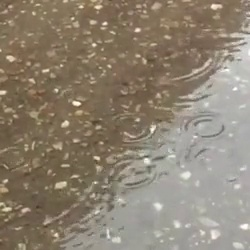drop: (187, 143, 237, 182), (105, 151, 155, 187), (167, 46, 214, 83), (111, 110, 155, 142), (181, 111, 225, 139), (1, 147, 28, 170)
